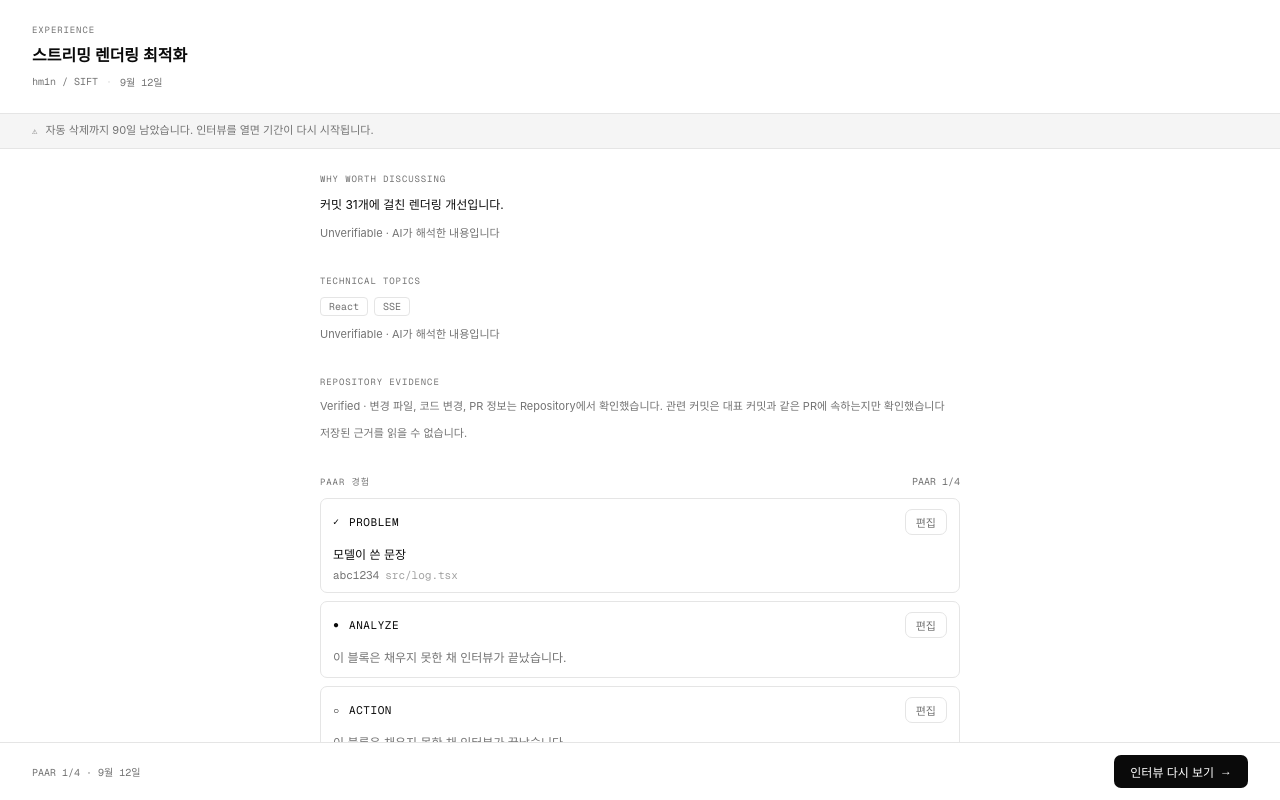
SavedInterviewScreen 블록 편집 › 고치기 전에 인용을 잃는다는 것을 알린다
The image size is (1280, 800).
Click the button with aria-label "Problem 편집".
click(926, 522)  # box [905,509,947,535]
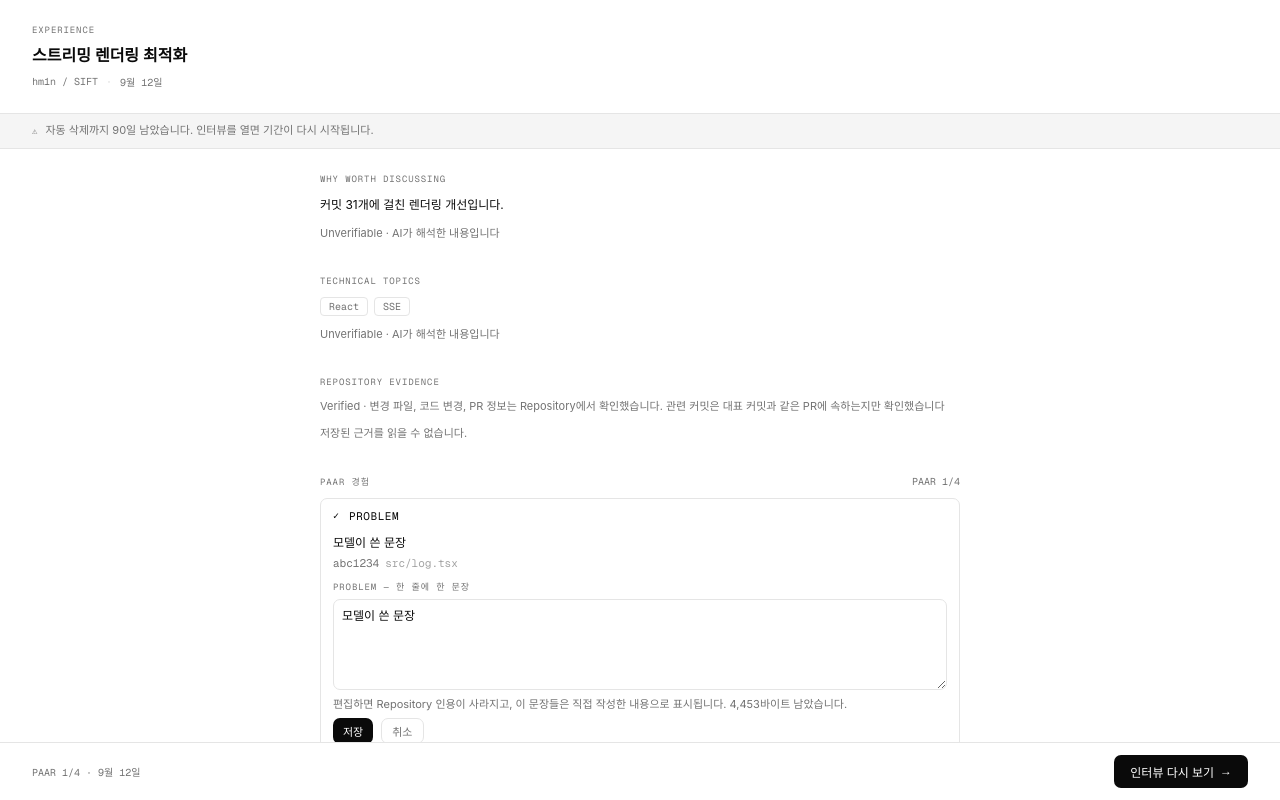
Check: the text "Repository 인용이 사라지고" is shown, box [333,697,847,711]
